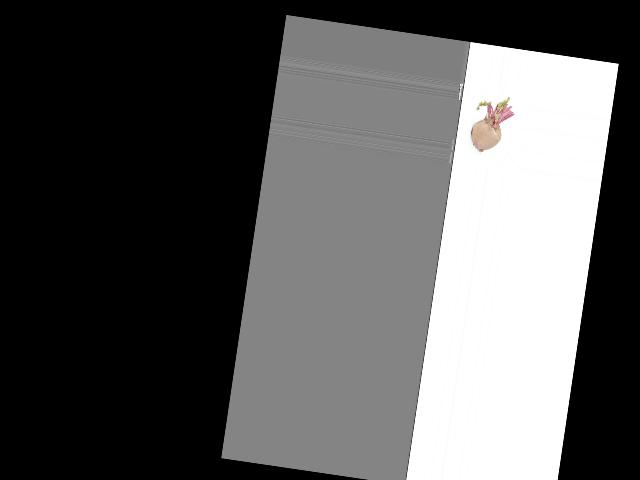beet: (468, 92, 516, 156)
